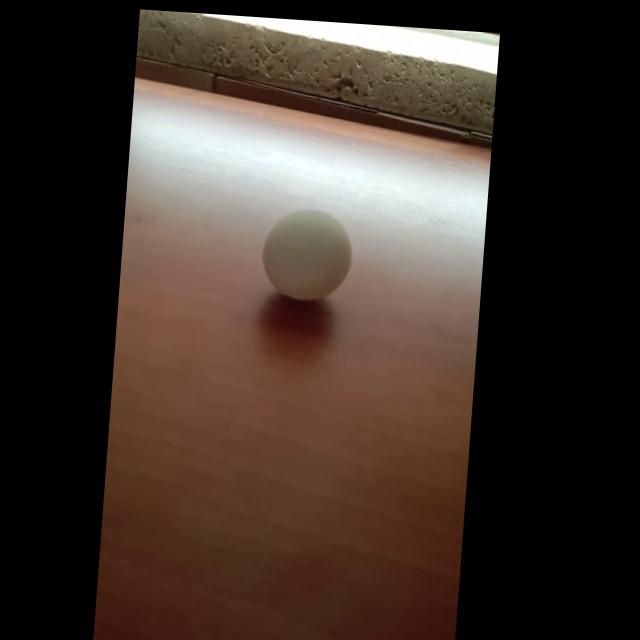white ball: (258, 205, 355, 304)
